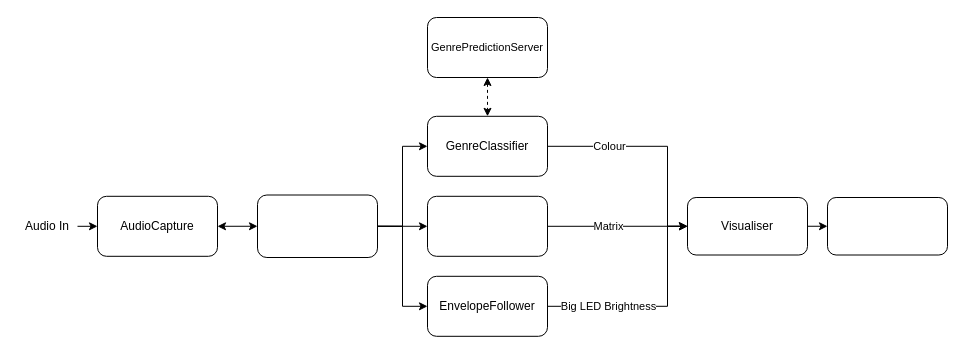
Some shapes in this 965 by 354 pixel diagram are drawn without their labels. Here are the shapes that lost their labels. From the top down, the centre of each, then its label:
At (x=317, y=226): "PingPongBuffer".
At (x=487, y=225): "FFTProcessor".
At (x=887, y=225): "SynaesthetiQ".
